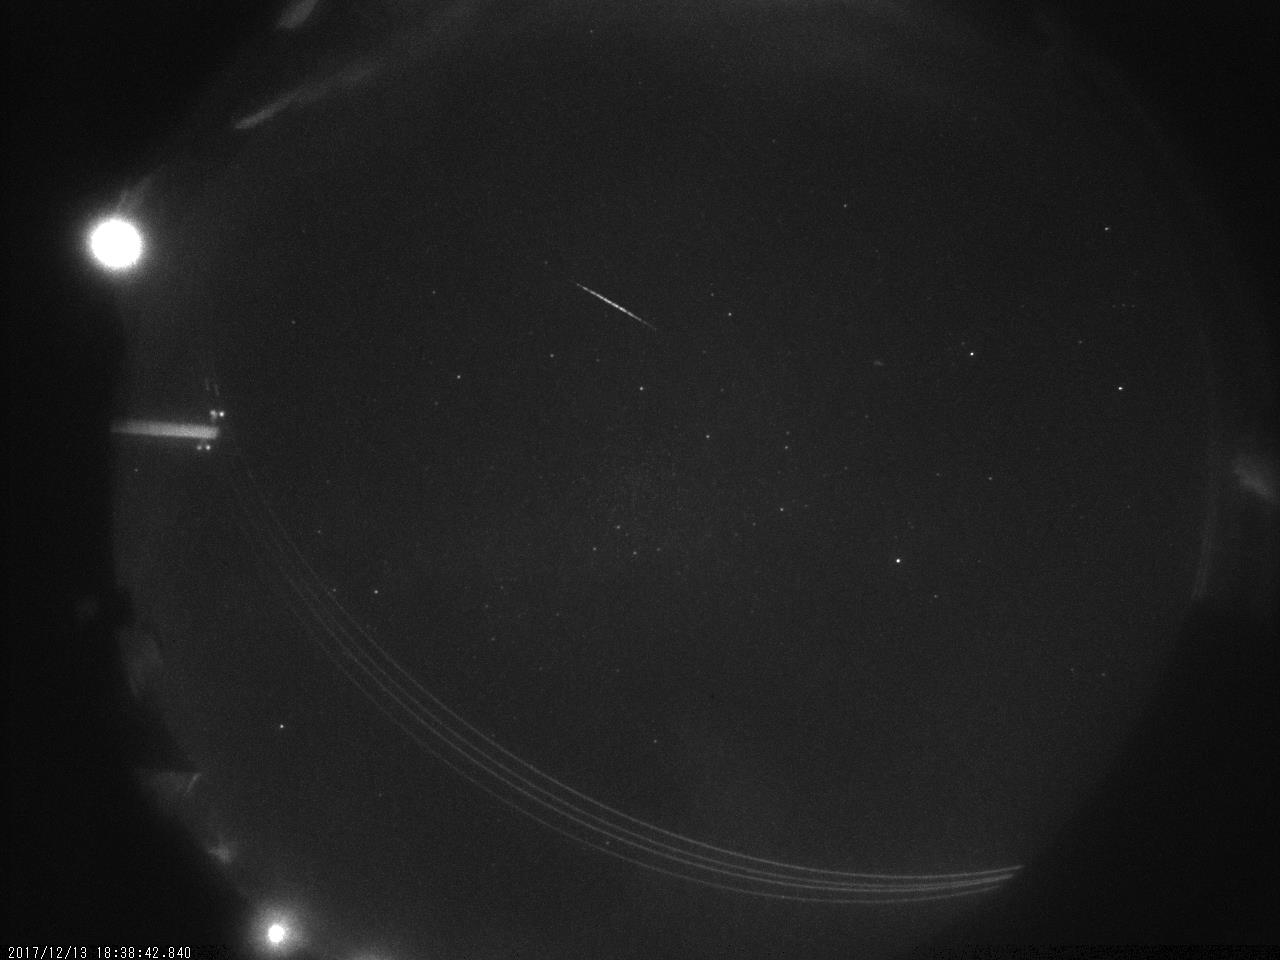meteor: (536, 259, 696, 348)
